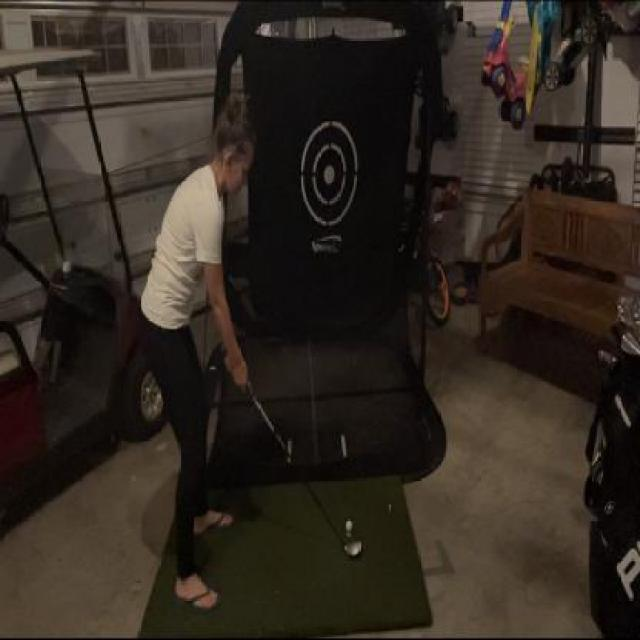club head: (340, 538, 365, 565)
